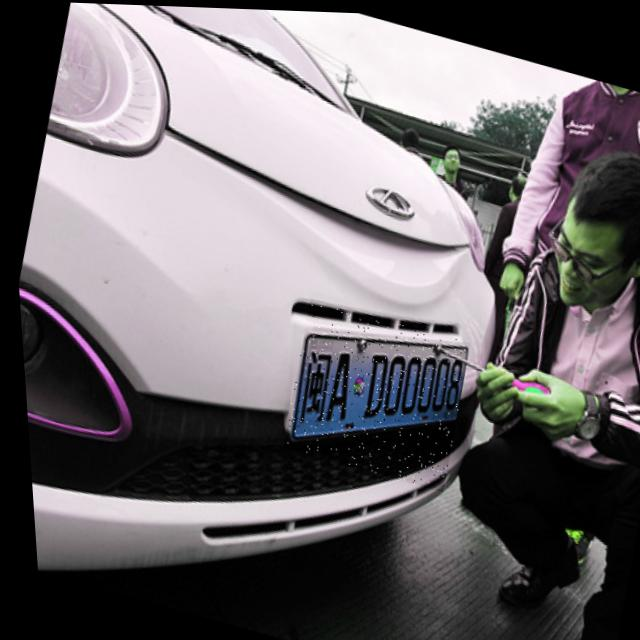license_plate: (269, 294, 473, 490)
